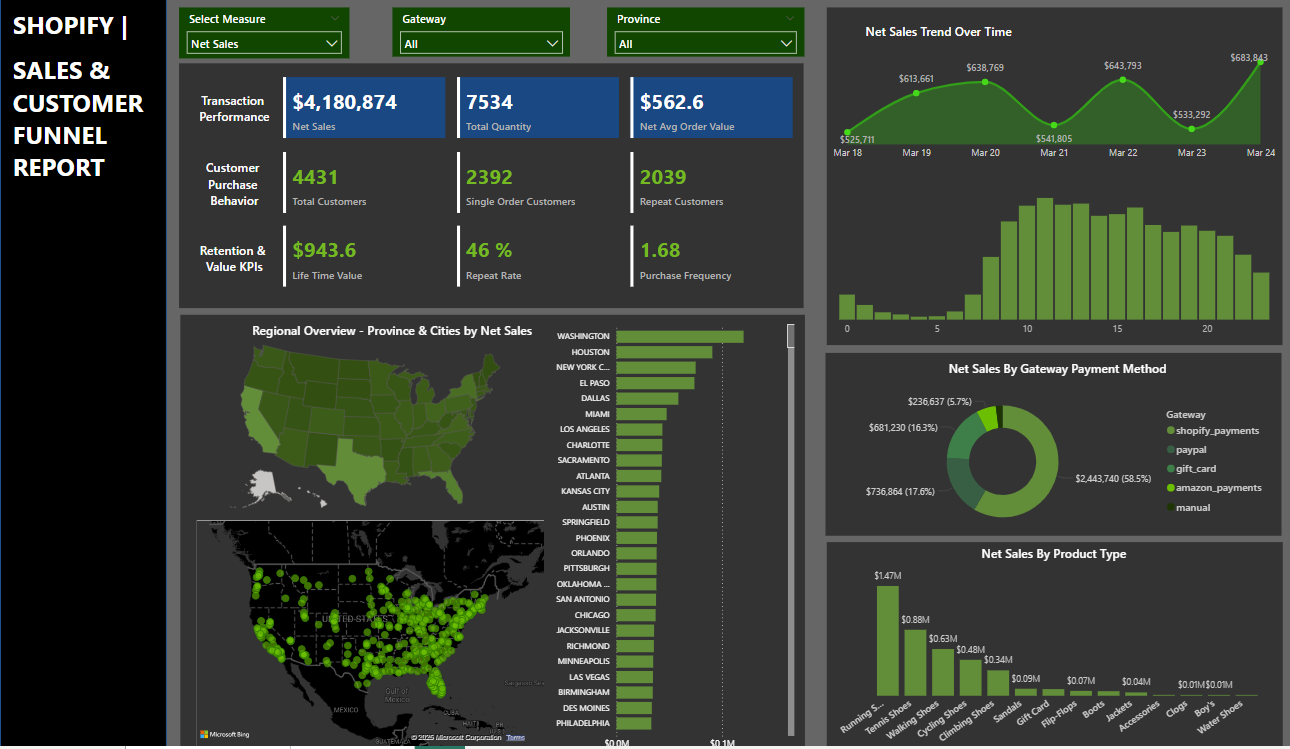

Layout of this report page (visuals, bound fields, positions):
{"tool":"powerbi","page":{"name":"Shopify Analysis","canvas":[1700,1000],"ordinal":0},"visuals":[{"type":"shape","box":[0,0,218.8,1000],"z":0},{"type":"textbox","box":[235.1,9.5,873.6,59.7],"z":1000},{"type":"shape","box":[235.4,69.1,821.4,332.9],"z":2000},{"type":"cardVisual","fields":{"Data":["shopify_sales.Net Sales","shopify_sales.Total Quantity","shopify_sales.Net Avg Order Value"]},"box":[366.8,82,680,90],"z":3000},{"type":"card","fields":{"Values":["shopify_sales.Transaction Perf"]},"box":[235.4,82,145.7,90],"z":4000},{"type":"cardVisual","fields":{"Data":["shopify_sales.Total Customers","shopify_sales.Single Order Customers","shopify_sales.Repeat Customers"]},"box":[366.8,179.8,680,90],"z":5000},{"type":"card","fields":{"Values":["shopify_sales.Customer Purchase Behavior"]},"box":[235.4,156.2,145.7,134.3],"z":6000},{"type":"card","fields":{"Values":["shopify_sales.Retention & Value KPIs"]},"box":[235.4,256.2,145.7,134.3],"z":7000},{"type":"cardVisual","fields":{"Data":["shopify_sales.Life Time Value","shopify_sales.Repeat Rate","shopify_sales.Purchase Frequency"]},"box":[366.8,277.7,680,90],"z":8000},{"type":"shape","box":[236.2,417.5,820,582.5],"z":9000},{"type":"shapeMap","fields":{"Value":["shopify_sales.Net Sales"],"Category":["shopify_sales.Billing Address Province"]},"box":[252,442,455,247],"z":10000},{"type":"slicer","fields":{"Values":["Select Measure.Select Measure"]},"box":[10.5,365.2,199.3,66.8],"z":11000},{"type":"map","fields":{"Category":["shopify_sales.Location"]},"box":[257.5,688.8,455,295],"z":12000},{"type":"clusteredBarChart","fields":{"Y":["shopify_sales.Net Sales"],"Category":["shopify_sales.CITY"]},"box":[713,418,334,582],"z":13000},{"type":"card","fields":{"Values":["shopify_sales.Map Title"]},"box":[235,417.5,560,45],"z":14000},{"type":"shape","box":[1084.5,69.1,598.2,389.1],"z":15000},{"type":"areaChart","title":"Net Sales Trend Over Time","fields":{"Y":["shopify_sales.Net Sales"],"Category":["shopify_sales.Invoice Date.Variation.Date Hierarchy.Year","shopify_sales.Invoice Date.Variation.Date Hierarchy.Quarter","shopify_sales.Invoice Date.Variation.Date Hierarchy.Month","shopify_sales.Invoice Date.Variation.Date Hierarchy.Day"]},"box":[1089.1,75.5,590,160],"z":16000},{"type":"clusteredColumnChart","fields":{"Y":["shopify_sales.Net Sales"],"Category":["shopify_sales.Hour"]},"box":[1096.4,235.5,597.3,220],"z":17000},{"type":"shape","box":[1085,716.2,598.8,283.8],"z":18000},{"type":"shape","box":[1083.8,468.8,598.8,240],"z":19000},{"type":"donutChart","fields":{"Y":["shopify_sales.Net Sales"],"Category":["shopify_sales.Gateway"]},"box":[1096.2,511.2,573.8,198.8],"z":20000},{"type":"card","fields":{"Values":["shopify_sales.Chart Title"]},"box":[945,70,560,28.8],"z":21000},{"type":"card","fields":{"Values":["shopify_sales.Donut Title"]},"box":[1108.8,471.2,560,40],"z":22000},{"type":"clusteredColumnChart","fields":{"Y":["shopify_sales.Net Sales"],"Category":["shopify_sales.Product Type"]},"box":[1096.2,733.8,573.8,266.2],"z":23000},{"type":"card","fields":{"Values":["shopify_sales.Bar Chart Title"]},"box":[1103.8,718.8,560,31.2],"z":24000},{"type":"slicer","fields":{"Values":["shopify_sales.Gateway"]},"box":[11,444,198.8,66.2],"z":25000},{"type":"slicer","fields":{"Values":["shopify_sales.Billing Address Province"]},"box":[11,520.3,198.8,66.2],"z":26000},{"type":"textbox","box":[10,946.2,98.8,53.8],"z":27000}]}

Visuals, with their boxes in screenshot pixels (x1, y1, x2, y2), scaled from the page's 1700x1000 canvas onto the 1290x749 screenshot:
shape: rect(0, 0, 166, 748)
textbox: rect(178, 7, 841, 52)
shape: rect(179, 52, 802, 301)
cardVisual - shopify_sales.Net Sales x shopify_sales.Total Quantity: rect(278, 61, 794, 129)
card - shopify_sales.Transaction Perf: rect(179, 61, 289, 129)
cardVisual - shopify_sales.Total Customers x shopify_sales.Single Order Customers: rect(278, 135, 794, 202)
card - shopify_sales.Customer Purchase Behavior: rect(179, 117, 289, 218)
card - shopify_sales.Retention & Value KPIs: rect(179, 192, 289, 292)
cardVisual - shopify_sales.Life Time Value x shopify_sales.Repeat Rate: rect(278, 208, 794, 275)
shape: rect(179, 313, 801, 748)
shapeMap - shopify_sales.Net Sales x shopify_sales.Billing Address Province: rect(191, 331, 536, 516)
slicer - Select Measure.Select Measure: rect(8, 274, 159, 324)
map - shopify_sales.Location: rect(195, 516, 541, 737)
clusteredBarChart - shopify_sales.Net Sales x shopify_sales.CITY: rect(541, 313, 794, 748)
card - shopify_sales.Map Title: rect(178, 313, 603, 346)
shape: rect(823, 52, 1277, 343)
"Net Sales Trend Over Time" areaChart: rect(826, 57, 1274, 176)
clusteredColumnChart - shopify_sales.Net Sales x shopify_sales.Hour: rect(832, 176, 1285, 341)
shape: rect(823, 536, 1278, 748)
shape: rect(822, 351, 1277, 531)
donutChart - shopify_sales.Net Sales x shopify_sales.Gateway: rect(832, 383, 1267, 532)
card - shopify_sales.Chart Title: rect(717, 52, 1142, 74)
card - shopify_sales.Donut Title: rect(841, 353, 1266, 383)
clusteredColumnChart - shopify_sales.Net Sales x shopify_sales.Product Type: rect(832, 550, 1267, 748)
card - shopify_sales.Bar Chart Title: rect(838, 538, 1263, 562)
slicer - shopify_sales.Gateway: rect(8, 333, 159, 382)
slicer - shopify_sales.Billing Address Province: rect(8, 390, 159, 439)
textbox: rect(8, 709, 83, 748)
